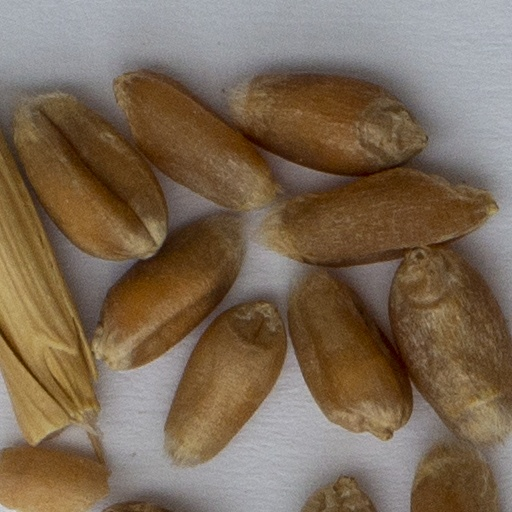Peel-poly: (0, 126, 97, 442)
